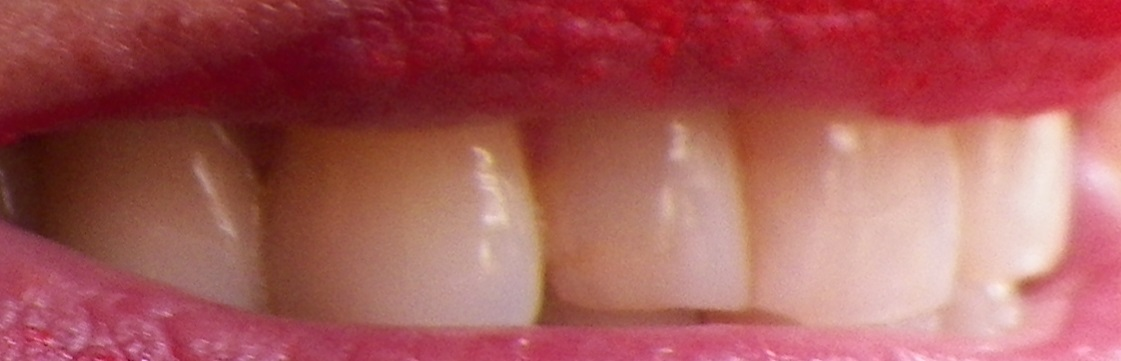boca: (36, 107, 1076, 351)
